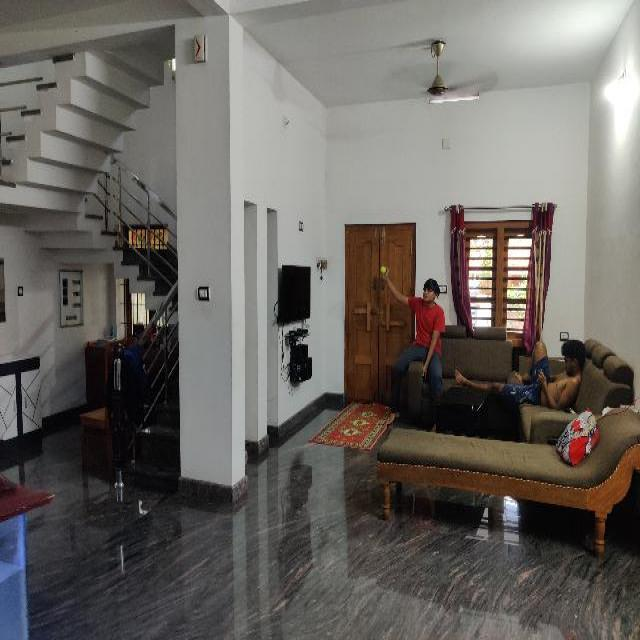tennis-ball: (381, 266, 386, 272)
